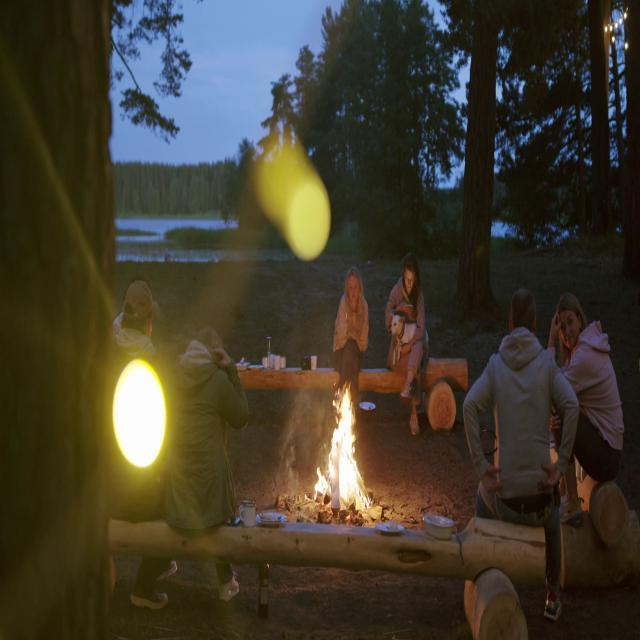Fire: (320, 377, 367, 520)
